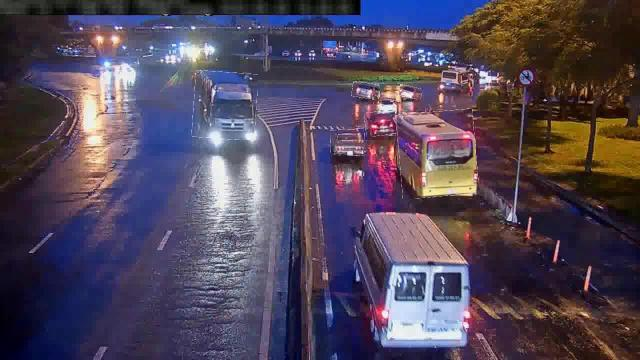Bus: (397, 110, 477, 197)
Car: (330, 130, 366, 156), (365, 111, 397, 137), (352, 82, 380, 99), (398, 86, 422, 98)
Truck: (193, 71, 257, 139)
